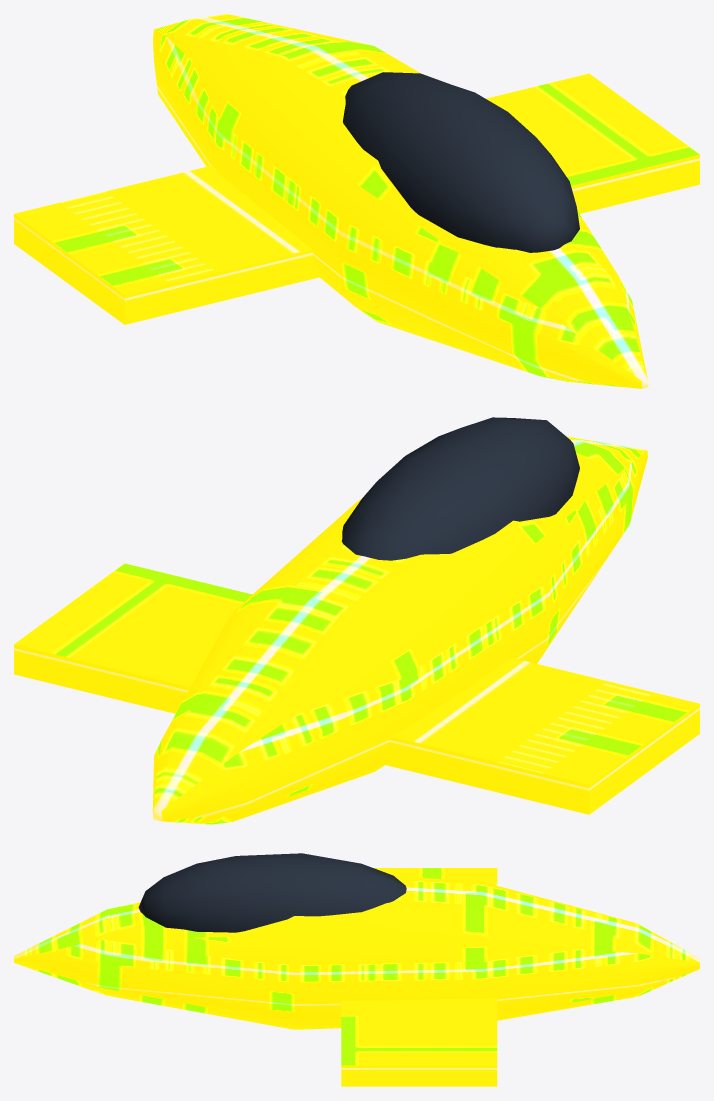
File: HULL.glb
3 renders of one model, top to bottom at view 1: azimuth 30°, elevation 25°; view 2: azimuth 150°, elevation 25°; view 3: azimuth 270°, elevation 25°, orthographic. The views are drawn at different scales.
Visible parts, largest first — view 1: HULL_01_LITE; view 2: HULL_01_LITE; view 3: HULL_01_LITE.
Boxes of the visible parts, x1=… form: HULL_01_LITE: x1=14, y1=14, x2=699, y2=388; HULL_01_LITE: x1=14, y1=417, x2=699, y2=824; HULL_01_LITE: x1=14, y1=853, x2=699, y2=1086.
Bounding box in the file's own units: 3 × 1.12 × 4.4.
2 materials, 1 textured.
